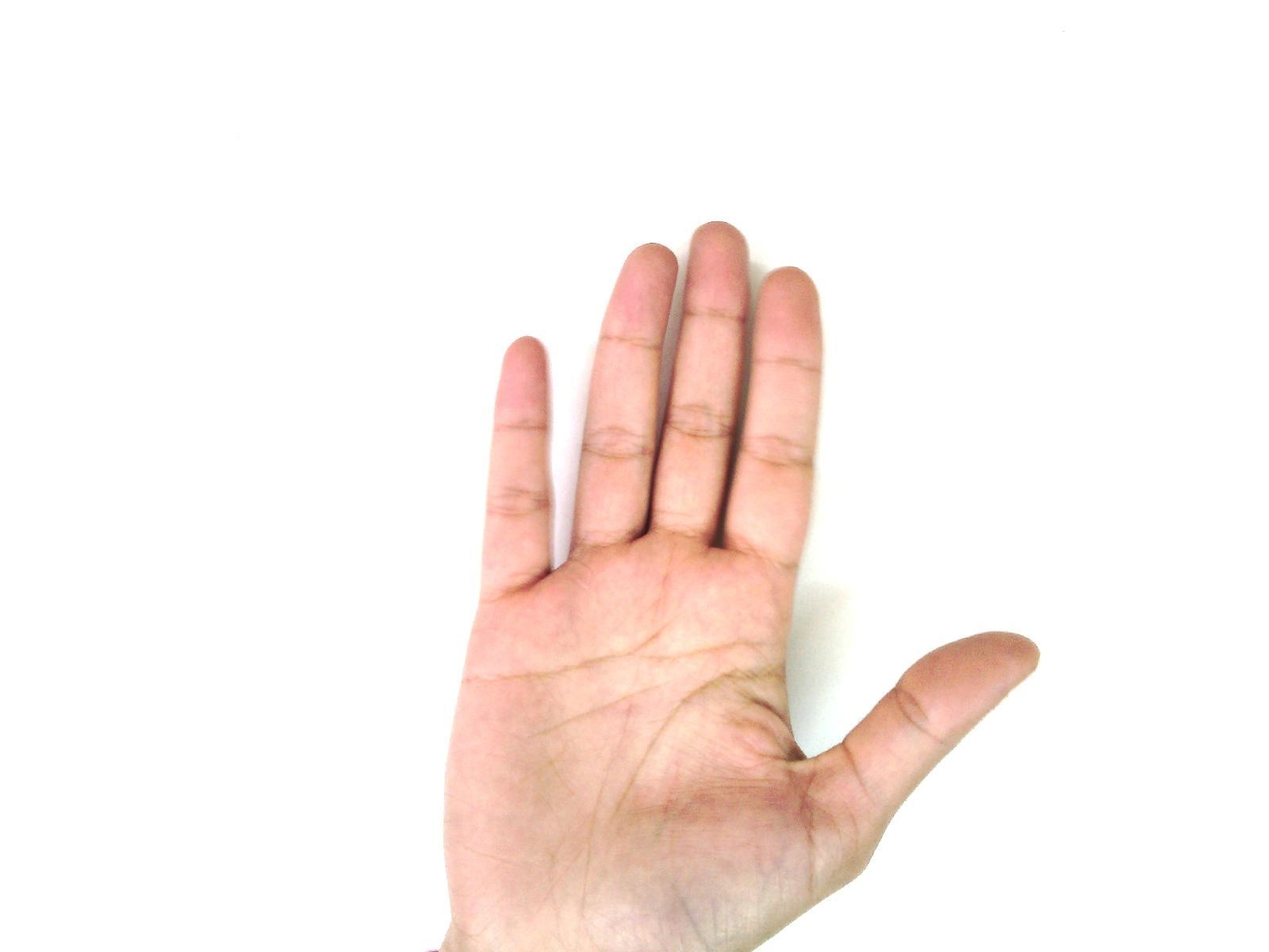open_palm: (433, 220, 1042, 951)
